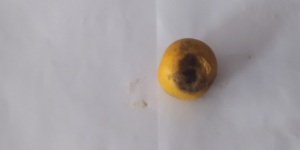BAD: (156, 38, 218, 104), (159, 43, 220, 98)
